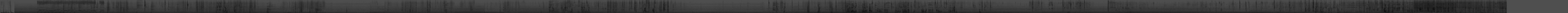Moan: (1432, 0, 1435, 13), (1419, 0, 1421, 13)
